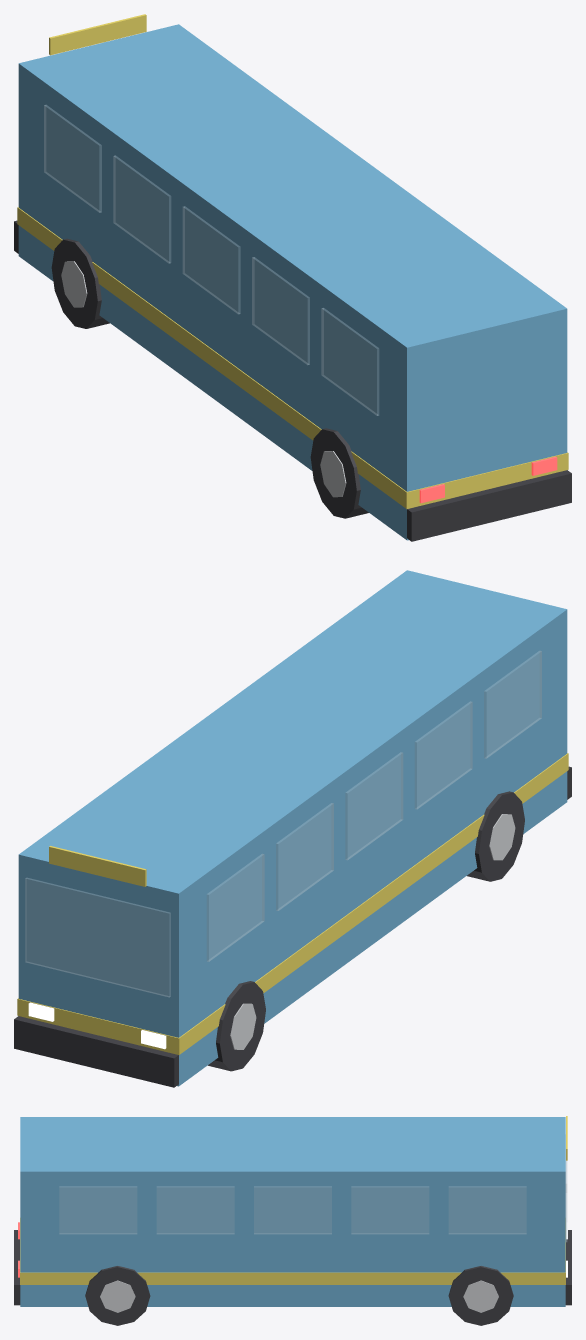
The model's file is bus.glb.
3 views of the same model, one above another, from view 1: azimuth 30°, elevation 25°; view 2: azimuth 150°, elevation 25°; view 3: azimuth 270°, elevation 25° (orthographic). The views are drawn at different scales.
Visible parts, largest first — view 1: body, wheel_fl, wheel_rl; view 2: body, wheel_rl, wheel_fl; view 3: body, wheel_fr, wheel_rr.
Part boxes in pixels (bbox=[...]): body: bbox=[14, 14, 571, 541]; wheel_fl: bbox=[51, 238, 109, 328]; wheel_rl: bbox=[310, 428, 368, 518]; body: bbox=[14, 570, 571, 1087]; wheel_rl: bbox=[467, 791, 524, 881]; wheel_fl: bbox=[208, 981, 265, 1071]; body: bbox=[14, 1116, 571, 1306]; wheel_fr: bbox=[448, 1266, 513, 1325]; wheel_rr: bbox=[85, 1266, 150, 1325].
Size of the model in its own units: 2.12 by 2.8 by 8.6.
